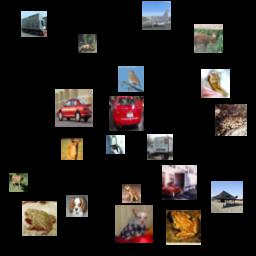airplane: (211, 181, 243, 213), (142, 1, 171, 30), (106, 135, 125, 154)
automobile: (55, 89, 93, 127), (109, 96, 144, 131)
bird: (118, 66, 144, 92)
cat: (201, 69, 230, 98)
deer: (194, 24, 223, 53), (61, 138, 83, 160), (9, 173, 28, 192), (78, 34, 97, 53)
dog: (115, 205, 153, 243), (66, 195, 88, 217)
frog: (166, 210, 201, 245), (22, 201, 57, 236), (215, 104, 247, 136), (122, 184, 141, 203)
truck: (162, 165, 197, 200), (21, 11, 47, 37), (147, 134, 173, 160)
